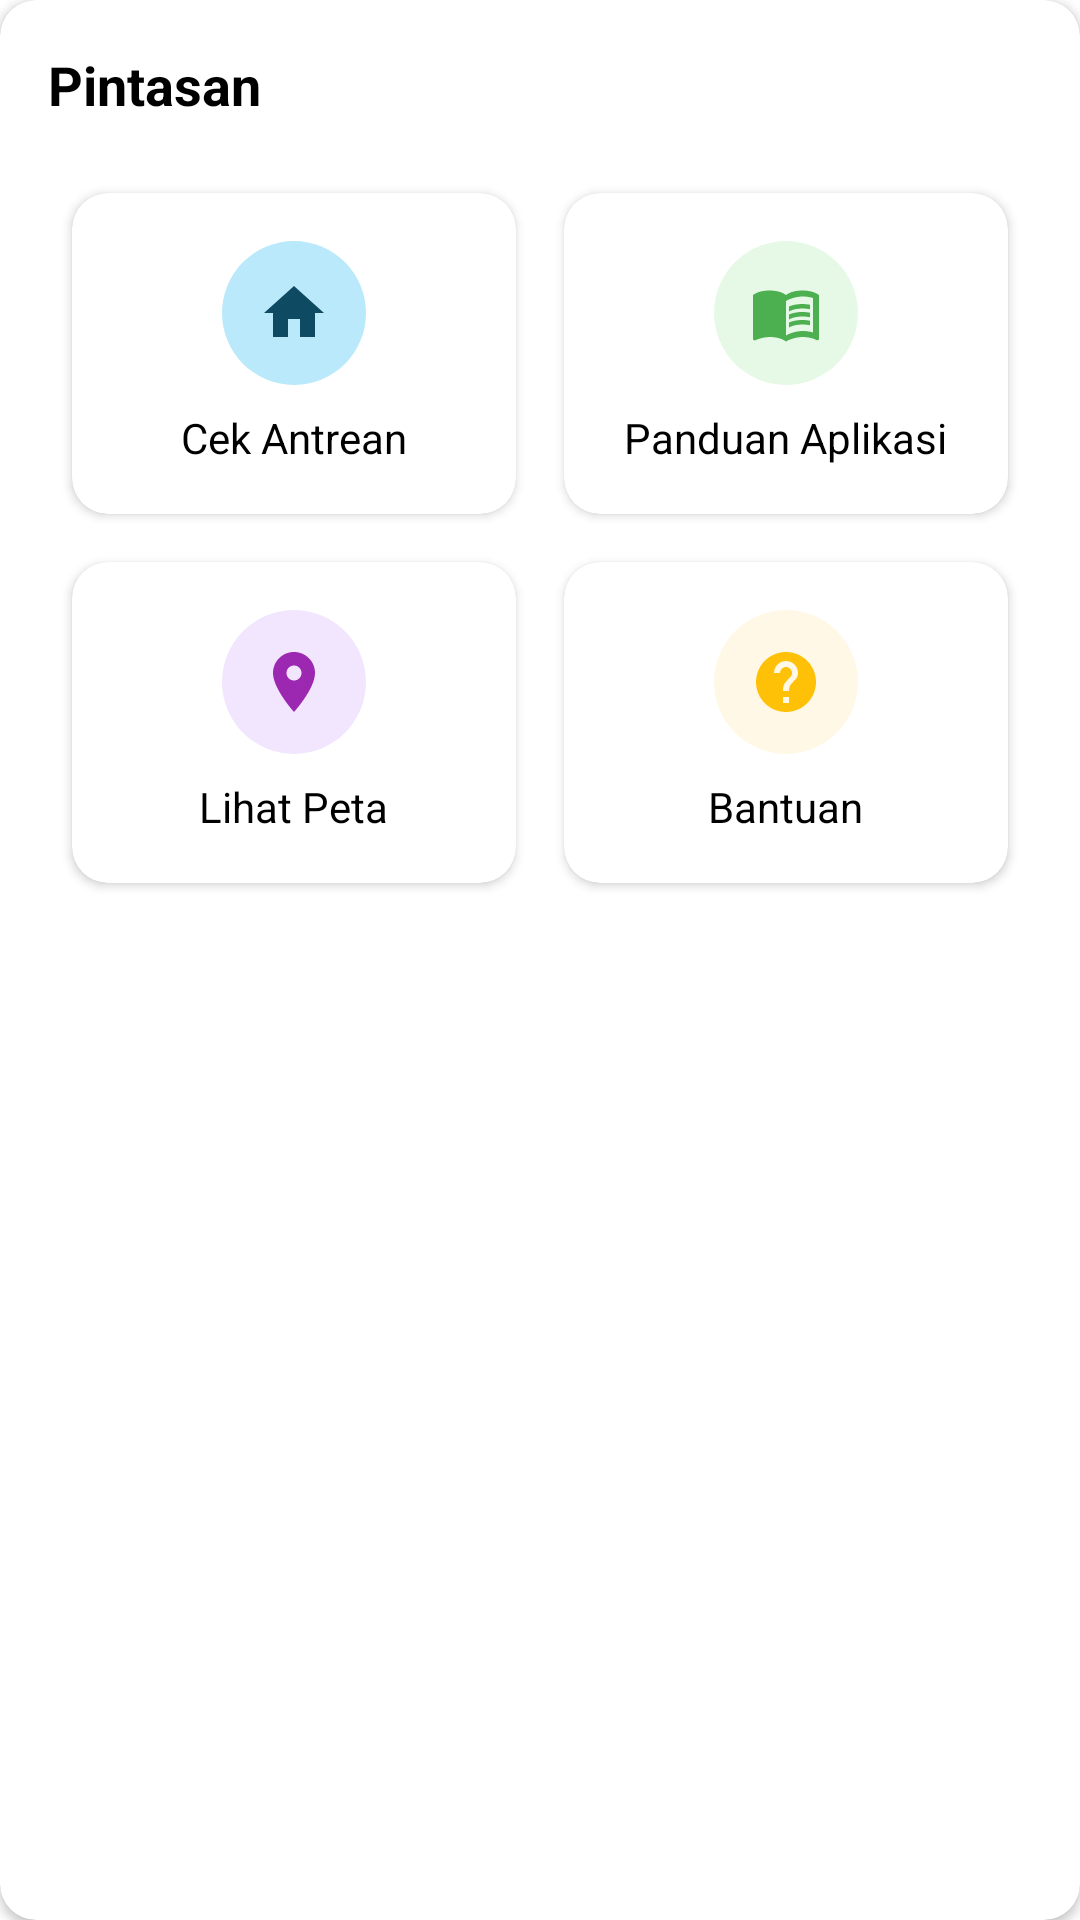

Icons on this 1080*1920 Android screen, each with the point to tap as [x,y]:
guide: [786,316]
help: [786,682]
home: [294,311]
location: [294,682]
